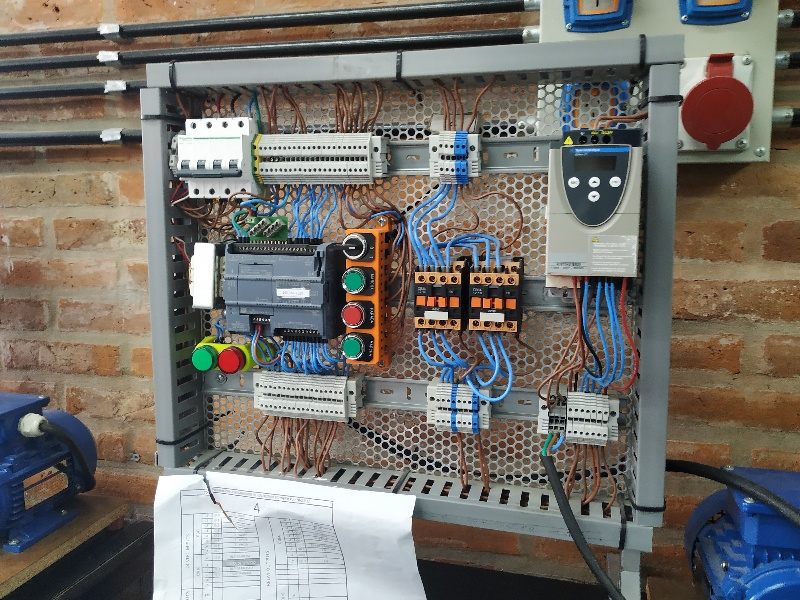Tablero 2: (153, 74, 647, 516)
